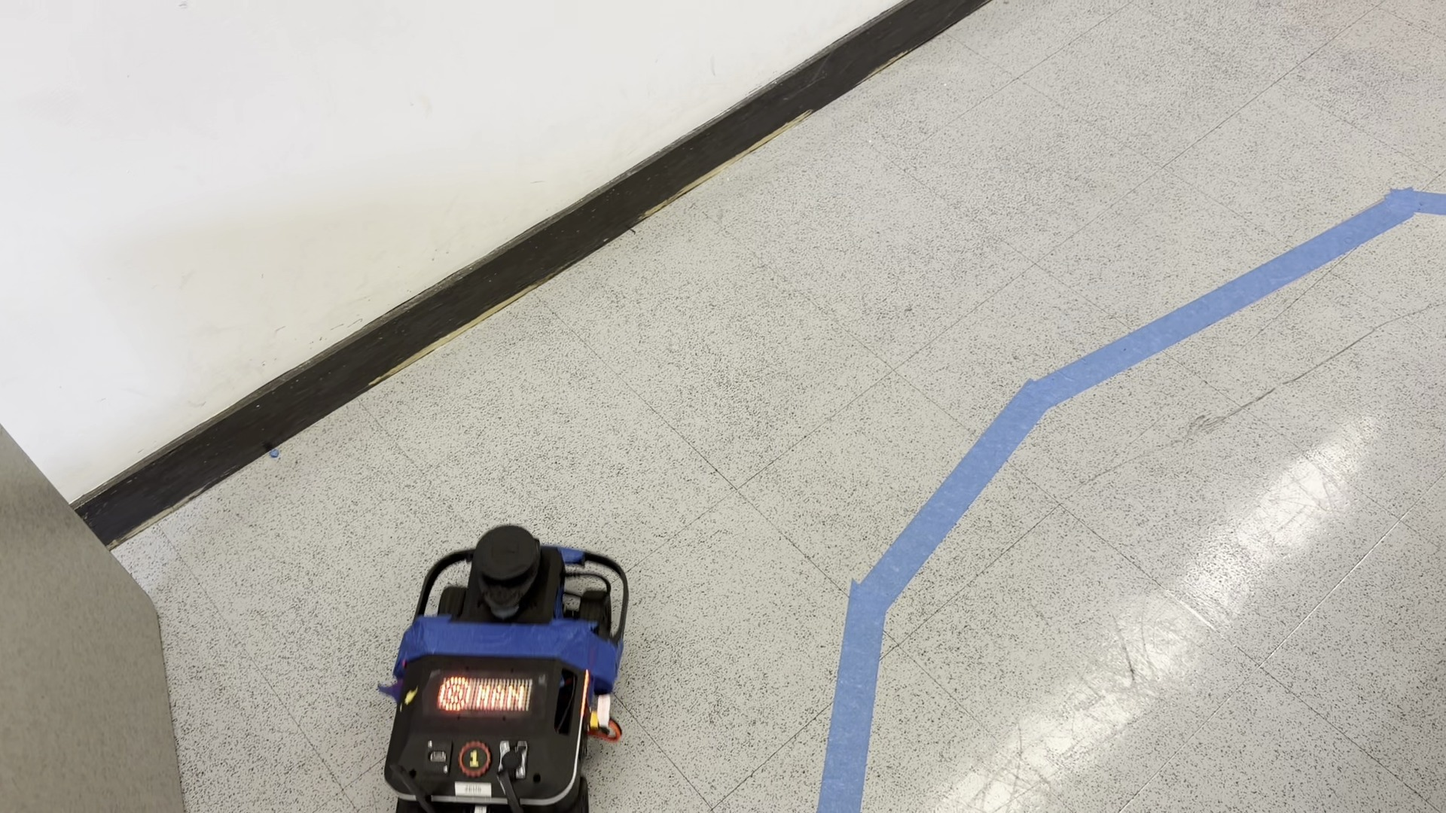racecar: (381, 533, 628, 812)
